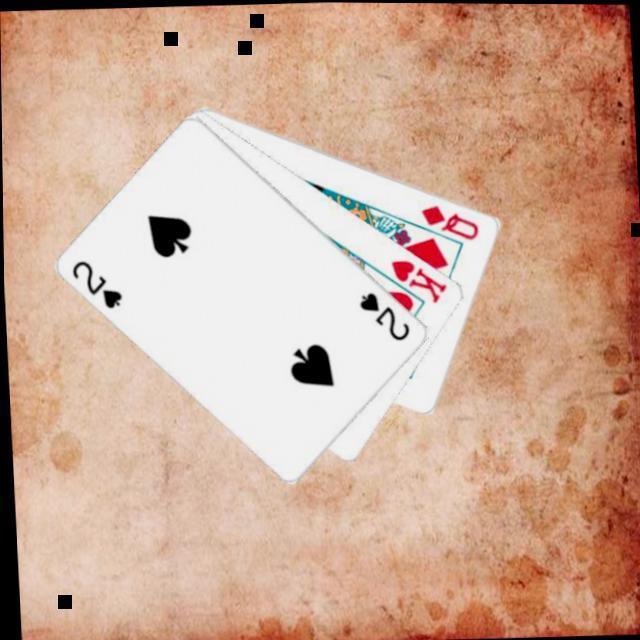2S: (352, 288, 411, 346), (65, 256, 124, 314)
KH: (383, 255, 448, 308)
QD: (414, 200, 480, 246)
